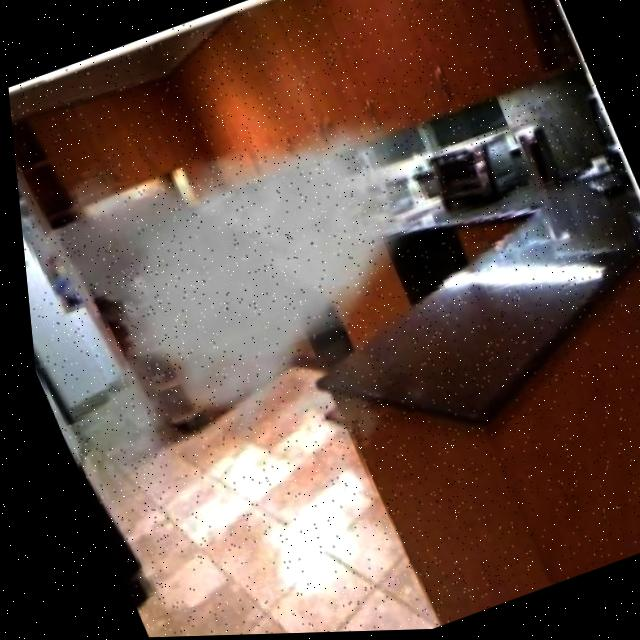Smoke: (51, 54, 488, 427)
